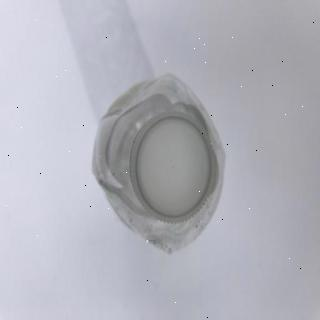Plastic-bottle: (91, 74, 229, 258)
